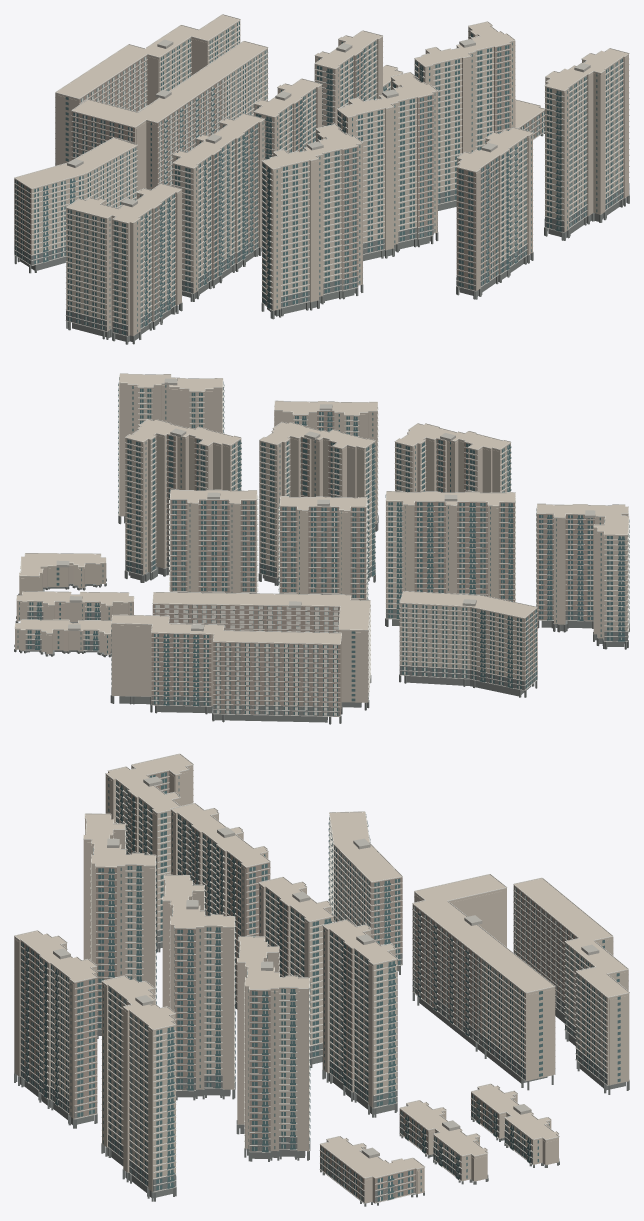
The model's file is representative-a10023991.glb.
3 views of the same model, one above another, from view 1: azimuth 30°, elevation 25°; view 2: azimuth 150°, elevation 25°; view 3: azimuth 270°, elevation 25° (orthographic). The views are drawn at different scales.
Visible parts, largest first — view 1: A10023991_wall001, A10023991_glass001, A10023991_trim001, A10023991_accent001, A10023991_base001, A10023991_roof001; view 2: A10023991_wall001, A10023991_trim001, A10023991_accent001, A10023991_glass001, A10023991_base001, A10023991_roof001; view 3: A10023991_wall001, A10023991_glass001, A10023991_trim001, A10023991_accent001, A10023991_base001, A10023991_roof001.
Boxes of the visible parts, box(x1,y1,x2,y2) form: A10023991_wall001: box(15, 15, 628, 336); A10023991_glass001: box(15, 21, 622, 334); A10023991_trim001: box(14, 14, 629, 336); A10023991_accent001: box(14, 41, 544, 320); A10023991_base001: box(14, 121, 629, 344); A10023991_roof001: box(67, 39, 590, 207); A10023991_wall001: box(15, 374, 628, 715); A10023991_trim001: box(14, 373, 629, 716); A10023991_accent001: box(139, 406, 604, 716); A10023991_glass001: box(17, 377, 629, 715); A10023991_base001: box(14, 513, 629, 724); A10023991_roof001: box(56, 378, 595, 631); A10023991_wall001: box(14, 754, 629, 1203); A10023991_glass001: box(21, 772, 620, 1201); A10023991_trim001: box(14, 753, 629, 1203); A10023991_accent001: box(14, 771, 628, 1202); A10023991_base001: box(14, 894, 629, 1206); A10023991_roof001: box(53, 776, 599, 1158).
Size of the model in its own units: 290 by 75.2 by 241.
